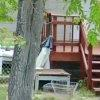stairs: (86, 52, 100, 94)
